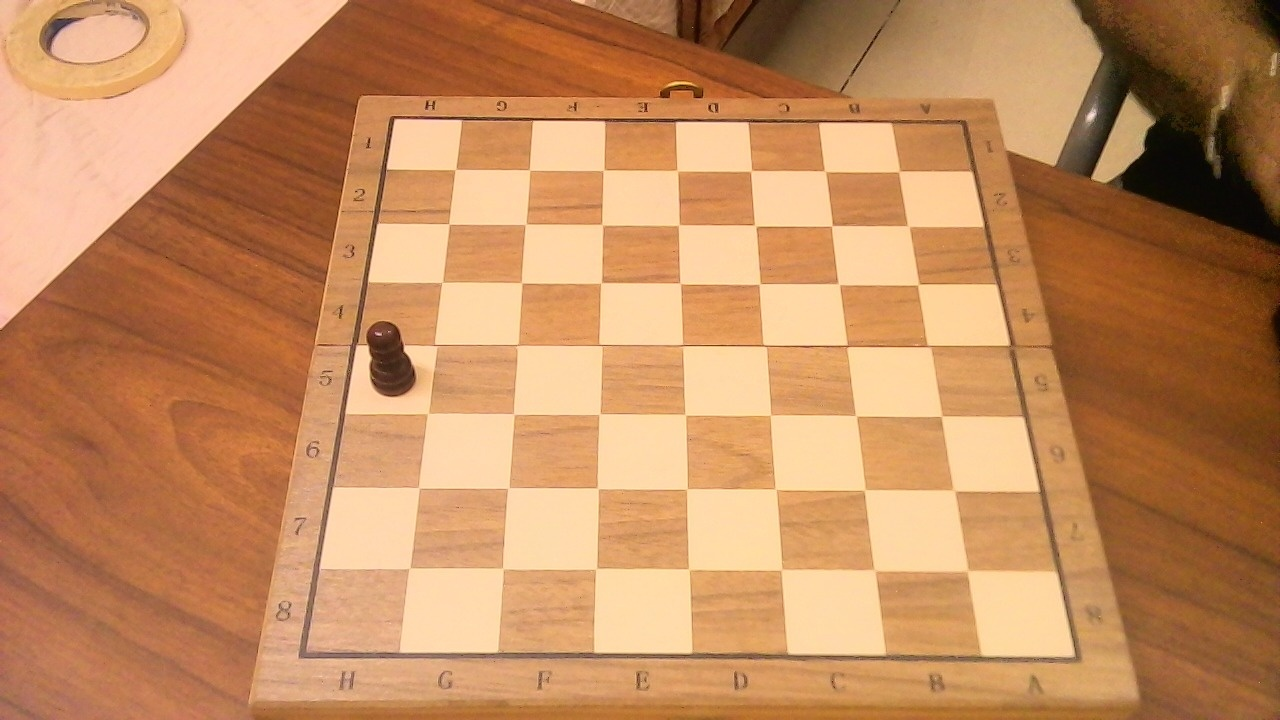p: (359, 310, 424, 401)
